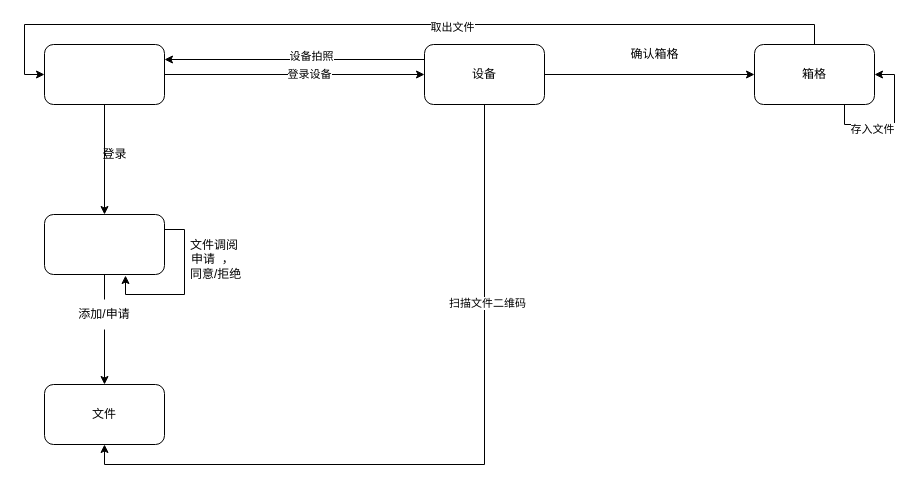
The diagram is 920 pixels wide and 490 high, and some of its shapes have lost their labels. The shapes that lost their labels are listed below. From the top down, each one's centre as x and y in pixels, then its label:
the point at 104,74: 用户
the point at 104,244: 后台
